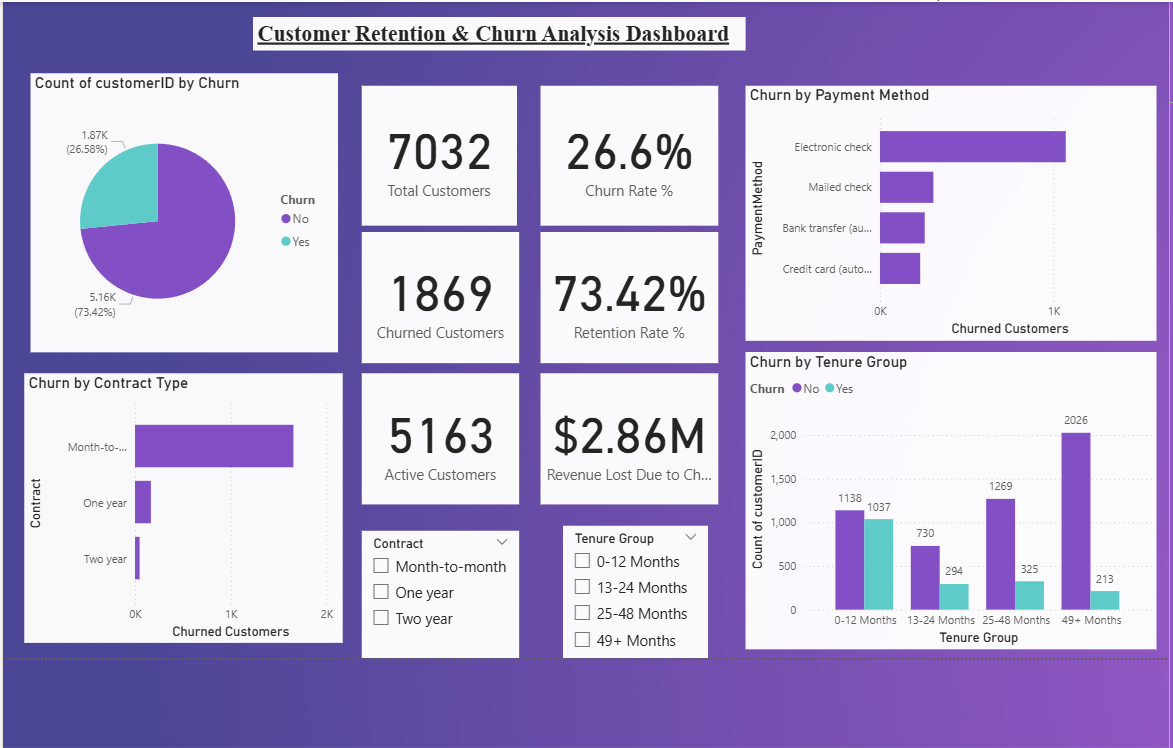

What the dashboard file says about the page in this screenshot:
{"tool":"powerbi","page":{"name":"Page 4","canvas":[1280,720],"ordinal":0},"visuals":[{"type":"card","fields":{"Values":["WA_Fn-UseC_-Telco-Customer-Churn.Total Customers"]},"box":[393.8,91.9,170.2,153.7],"z":0},{"type":"card","fields":{"Values":["WA_Fn-UseC_-Telco-Customer-Churn.Churned Customers"]},"box":[393.8,252.5,172.9,144.1],"z":1000},{"type":"card","fields":{"Values":["WA_Fn-UseC_-Telco-Customer-Churn.Active Customers"]},"box":[393.8,407.5,172.9,144.1],"z":2000},{"type":"card","fields":{"Values":["WA_Fn-UseC_-Telco-Customer-Churn.Churn Rate %"]},"box":[590.1,91.9,194.9,153.7],"z":3000},{"type":"card","fields":{"Values":["WA_Fn-UseC_-Telco-Customer-Churn.Retention Rate %"]},"box":[590.1,252.5,194.9,144.1],"z":4000},{"type":"card","fields":{"Values":["WA_Fn-UseC_-Telco-Customer-Churn.Revenue Lost Due to Churn"]},"box":[590.1,407.5,194.9,144.1],"z":5000},{"type":"pieChart","fields":{"Category":["WA_Fn-UseC_-Telco-Customer-Churn.Churn"],"Y":["CountNonNull(WA_Fn-UseC_-Telco-Customer-Churn.customerID)"]},"box":[30.2,78.2,337.6,306],"z":6000},{"type":"clusteredBarChart","title":"Churn by Contract Type","fields":{"Category":["WA_Fn-UseC_-Telco-Customer-Churn.Contract"],"Y":["WA_Fn-UseC_-Telco-Customer-Churn.Churned Customers"]},"box":[23.3,407.5,349.9,296.4],"z":7000},{"type":"clusteredBarChart","title":"Churn by Payment Method","fields":{"Category":["WA_Fn-UseC_-Telco-Customer-Churn.PaymentMethod"],"Y":["WA_Fn-UseC_-Telco-Customer-Churn.Churned Customers"]},"box":[815.1,91.9,451.5,279.9],"z":8000},{"type":"clusteredColumnChart","title":"Churn by Tenure Group","fields":{"Category":["WA_Fn-UseC_-Telco-Customer-Churn.Tenure Group"],"Y":["CountNonNull(WA_Fn-UseC_-Telco-Customer-Churn.customerID)"],"Series":["WA_Fn-UseC_-Telco-Customer-Churn.Churn"]},"box":[815.1,384.2,451.5,326.6],"z":9000},{"type":"textbox","box":[274.4,16.5,540.7,37],"z":10000},{"type":"slicer","fields":{"Values":["WA_Fn-UseC_-Telco-Customer-Churn.Contract"]},"box":[393.8,580.4,172.9,140],"z":11000},{"type":"slicer","fields":{"Values":["WA_Fn-UseC_-Telco-Customer-Churn.Tenure Group"]},"box":[614.8,575,159.2,145.5],"z":12000}]}

Visuals, with their boxes in screenshot pixels (x1, y1, x2, y2):
card - WA_Fn-UseC_-Telco-Customer-Churn.Total Customers: x1=359, y1=83, x2=513, y2=222
card - WA_Fn-UseC_-Telco-Customer-Churn.Churned Customers: x1=359, y1=228, x2=515, y2=358
card - WA_Fn-UseC_-Telco-Customer-Churn.Active Customers: x1=359, y1=368, x2=515, y2=499
card - WA_Fn-UseC_-Telco-Customer-Churn.Churn Rate %: x1=536, y1=83, x2=712, y2=222
card - WA_Fn-UseC_-Telco-Customer-Churn.Retention Rate %: x1=536, y1=228, x2=712, y2=358
card - WA_Fn-UseC_-Telco-Customer-Churn.Revenue Lost Due to Churn: x1=536, y1=368, x2=712, y2=499
pieChart - WA_Fn-UseC_-Telco-Customer-Churn.Churn x CountNonNull(WA_Fn-UseC_-Telco-Customer-Churn.customerID): x1=30, y1=71, x2=335, y2=347
"Churn by Contract Type" clusteredBarChart: x1=24, y1=368, x2=340, y2=636
"Churn by Payment Method" clusteredBarChart: x1=740, y1=83, x2=1148, y2=336
"Churn by Tenure Group" clusteredColumnChart: x1=740, y1=347, x2=1148, y2=642
textbox: x1=251, y1=15, x2=740, y2=48
slicer - WA_Fn-UseC_-Telco-Customer-Churn.Contract: x1=359, y1=525, x2=515, y2=651
slicer - WA_Fn-UseC_-Telco-Customer-Churn.Tenure Group: x1=559, y1=520, x2=703, y2=651
